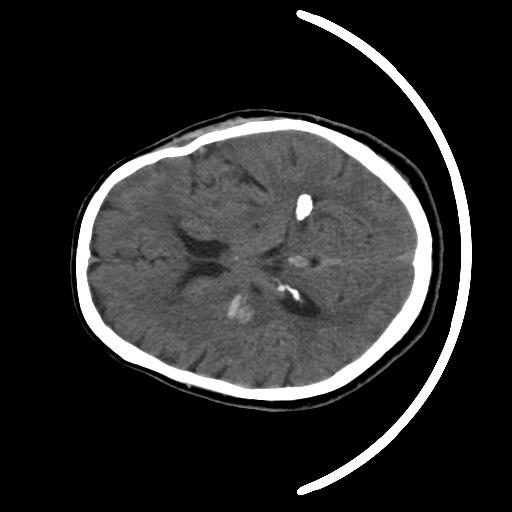a: (208, 277, 285, 341)
